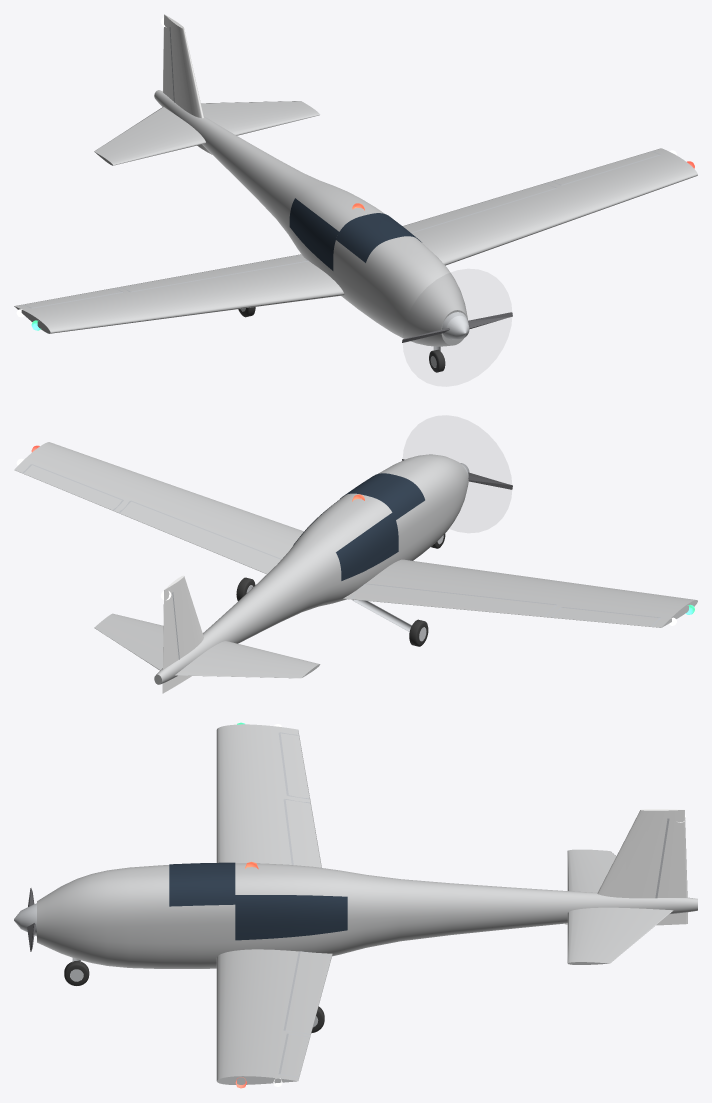
The picture shows the model from 3 angles, top to bottom: view 1: azimuth 30°, elevation 25°; view 2: azimuth 150°, elevation 25°; view 3: azimuth 270°, elevation 25°; orthographic projection. The views are drawn at different scales.
Visible parts, largest first — view 1: airframe; view 2: airframe, gear; view 3: airframe, gear.
Part boxes in pixels (box(x1,y1,x2,y2)): airframe: box(14, 14, 697, 346); airframe: box(14, 442, 697, 693); gear: box(236, 533, 445, 646); airframe: box(14, 722, 697, 1088); gear: box(64, 958, 324, 1032).
Size of the model in its own units: 10.42 by 2.37 by 8.38.
